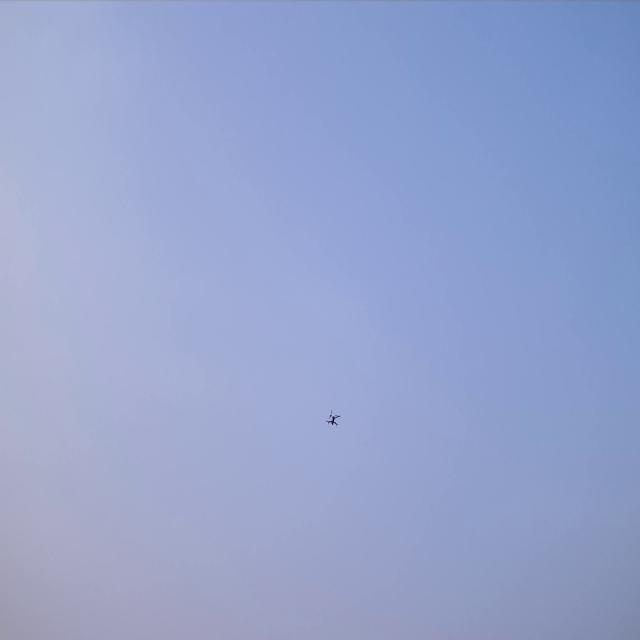UAV: (325, 408, 341, 427)
